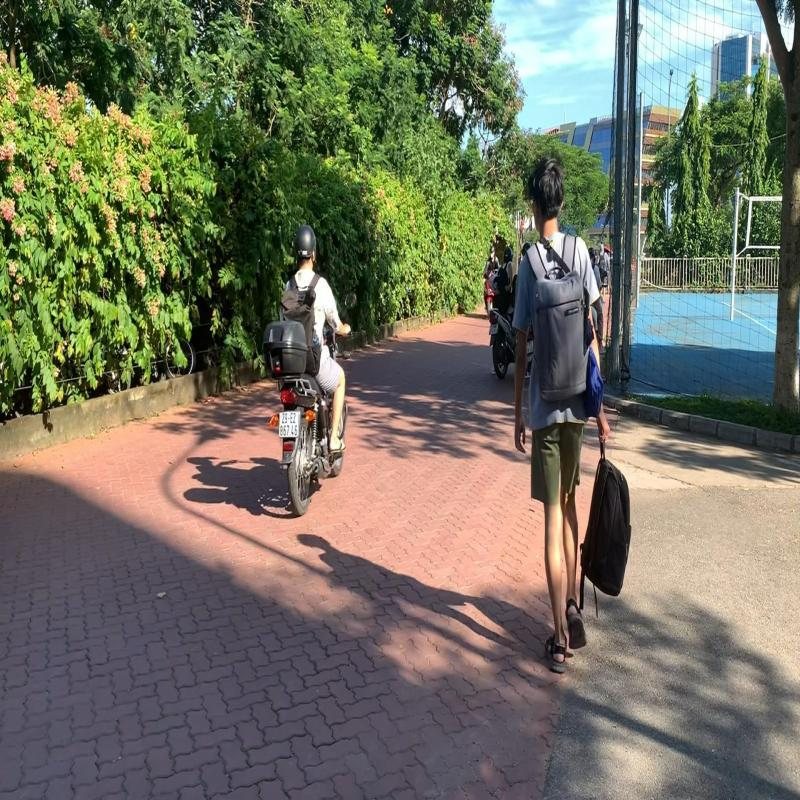helmet: (292, 226, 320, 260)
licenseplate: (276, 412, 301, 439)
motorcyclist: (261, 220, 358, 520)
